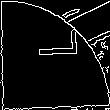L_W: (30, 39, 80, 71)
